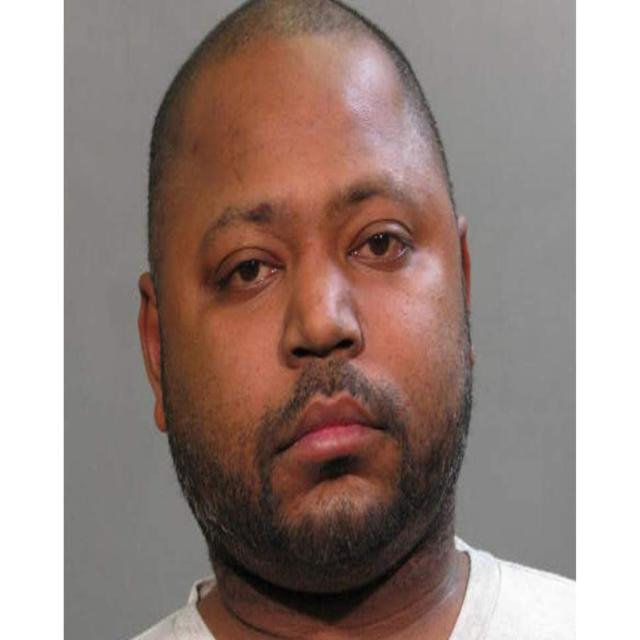human: (97, 0, 493, 640)
